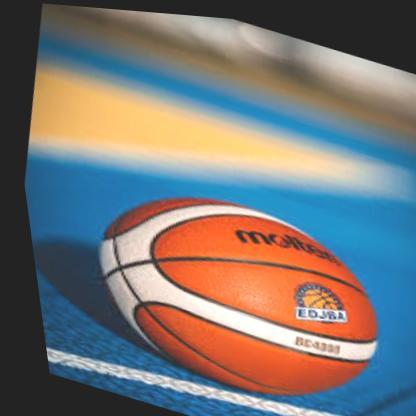basketball: (64, 163, 400, 416)
